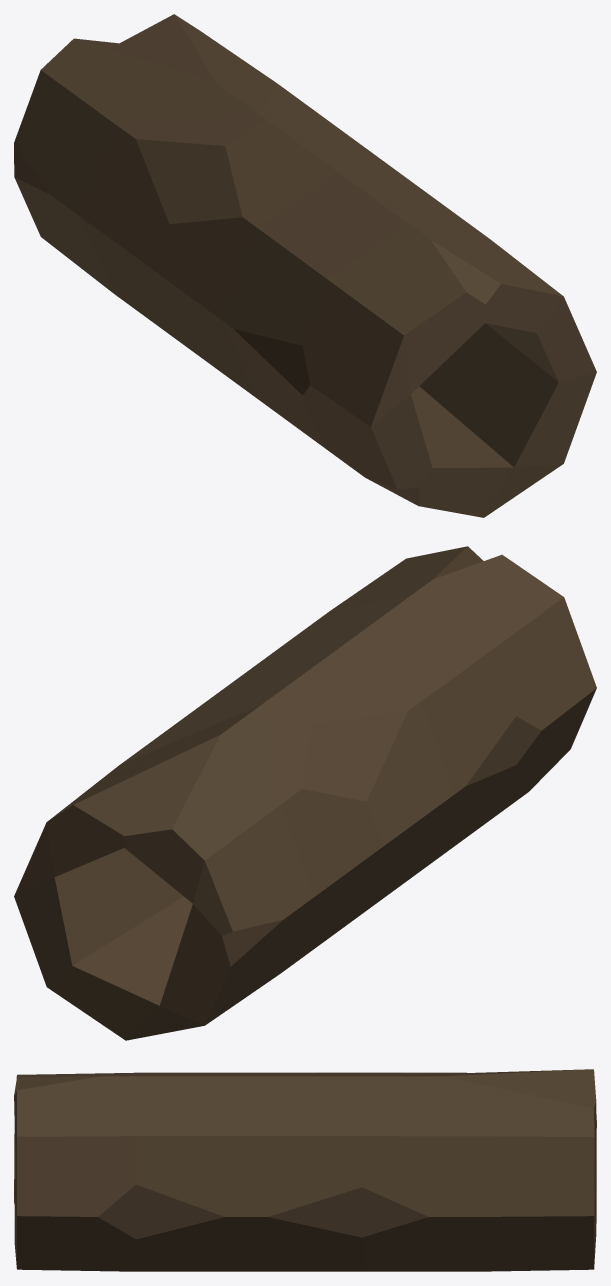
Rendered from Log.fbx.
3 renders of one model, top to bottom at view 1: azimuth 30°, elevation 25°; view 2: azimuth 150°, elevation 25°; view 3: azimuth 270°, elevation 25°, orthographic. The views are drawn at different scales.
Visible parts, largest first — view 1: Log; view 2: Log; view 3: Log.
Boxes of the visible parts, x1,y1,x2,y2 form: Log: [14, 14, 596, 517]; Log: [14, 546, 596, 1040]; Log: [14, 1069, 596, 1271].
Size of the model in its own units: 65.17 by 65.17 by 179.
